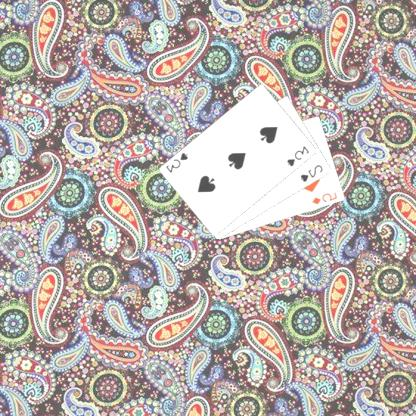2S: (300, 162, 326, 184)
3S: (286, 143, 312, 168), (165, 150, 192, 174)
5D: (311, 190, 340, 206)
